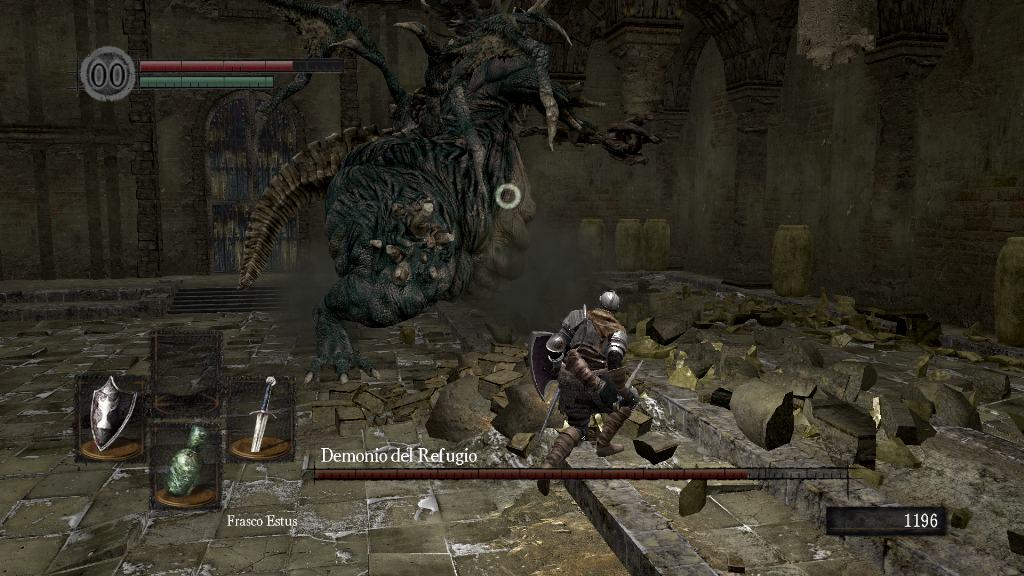asylumDemon: (233, 4, 663, 391)
bossHP: (314, 469, 847, 479)
health: (138, 58, 343, 71)
humanity: (80, 45, 136, 102)
player: (527, 290, 643, 496)
souls: (825, 506, 945, 536)
stamina: (138, 74, 274, 88)
